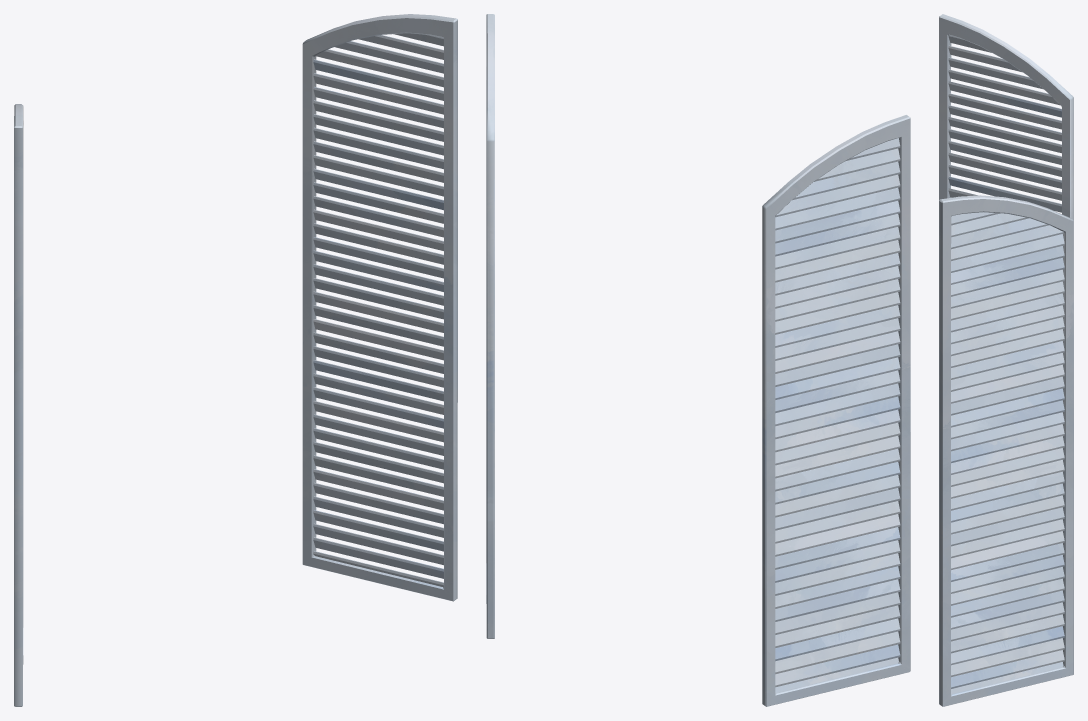
Rendered from Shutters arch.fbx.
3 renders of one model, left to right at view 1: azimuth 30°, elevation 25°; view 2: azimuth 150°, elevation 25°; view 3: azimuth 270°, elevation 25°, orthographic. The views are drawn at different scales.
Parts seen in each view (by area): view 1: Shutters arch; view 2: Shutters arch; view 3: Shutters arch.
Part boxes in pixels (x1,y1,x2,y2): Shutters arch: (14,14,457,706); Shutters arch: (486,14,910,706); Shutters arch: (939,14,1073,706).
Size of the model in its own units: 98.96 by 124 by 29.94.
